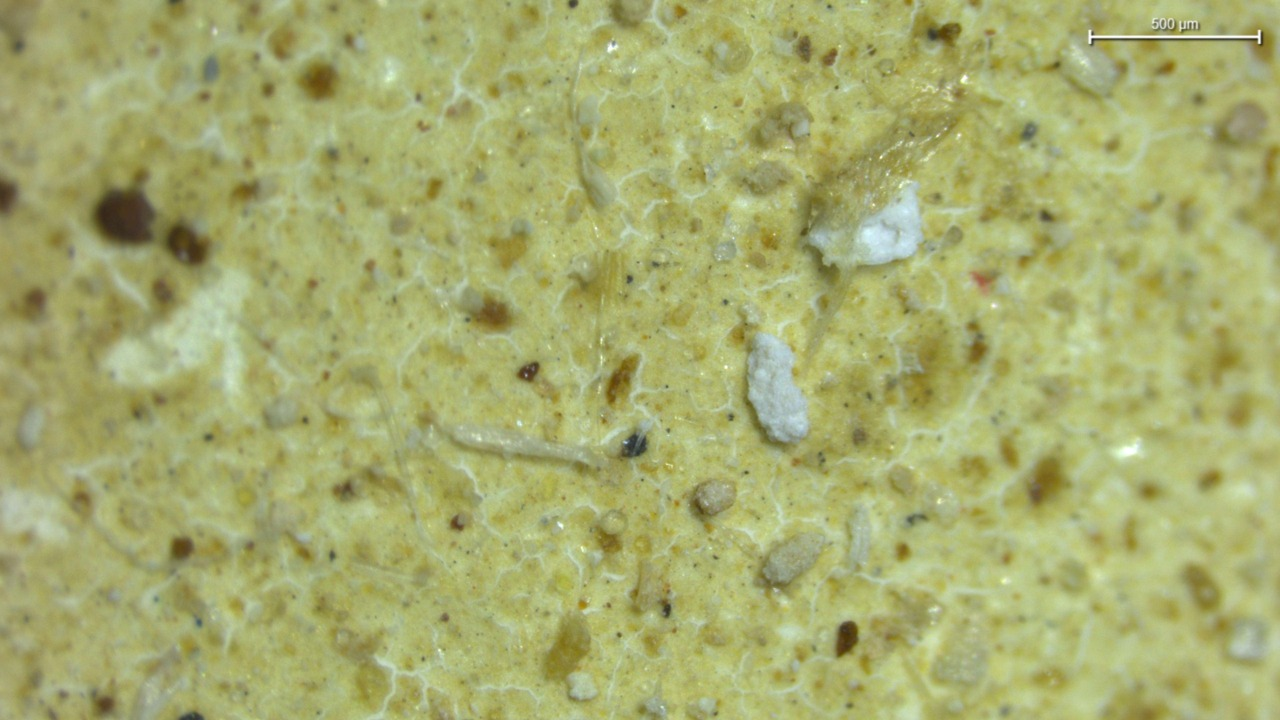microplastic_fragment: (808, 169, 925, 273), (746, 331, 816, 446), (763, 532, 831, 589), (694, 482, 735, 518)
